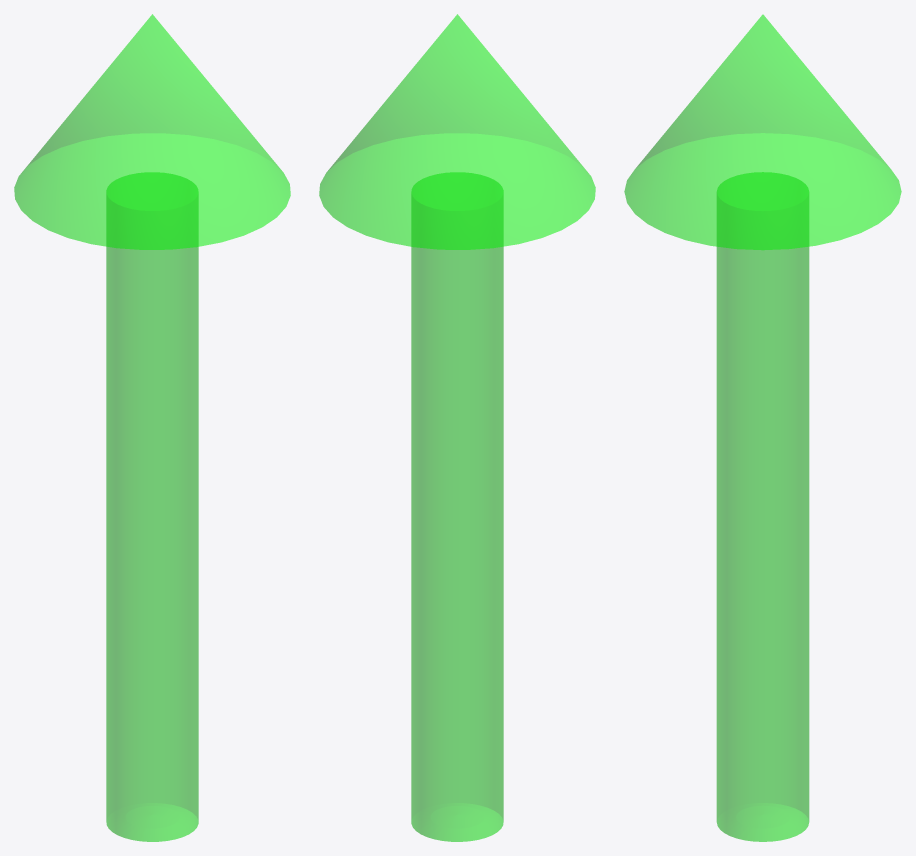
Rendered from Y-Axis-Pointer.obj.
The picture shows the model from 3 angles, left to right: view 1: azimuth 30°, elevation 25°; view 2: azimuth 150°, elevation 25°; view 3: azimuth 270°, elevation 25°; orthographic projection.
Parts seen in each view (by area): view 1: Y-Axis-Pointer_Cone; view 2: Y-Axis-Pointer_Cone; view 3: Y-Axis-Pointer_Cone.
Boxes of the visible parts, box(x1,y1,x2,y2) form: Y-Axis-Pointer_Cone: box(14, 14, 290, 841); Y-Axis-Pointer_Cone: box(319, 14, 595, 841); Y-Axis-Pointer_Cone: box(624, 14, 901, 841).
Bounding box in the file's own units: 0.3 × 0.9652 × 0.3.
